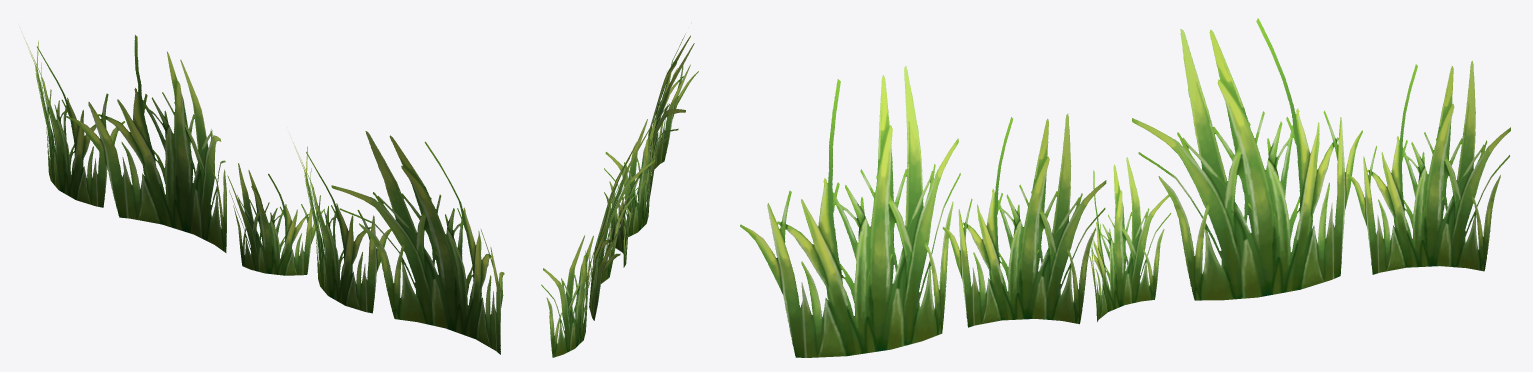
Rendered from Grass1.FBX.
3 renders of one model, left to right at view 1: azimuth 30°, elevation 25°; view 2: azimuth 150°, elevation 25°; view 3: azimuth 270°, elevation 25°, orthographic. The views are drawn at different scales.
Parts seen in each view (by area): view 1: Grass1; view 2: Grass1; view 3: Grass1.
Part boxes in pixels (bbox=[...]): Grass1: bbox=[21, 31, 504, 354]; Grass1: bbox=[541, 34, 698, 357]; Grass1: bbox=[740, 18, 1510, 357].
Size of the model in its own units: 83.37 by 87.9 by 250.
